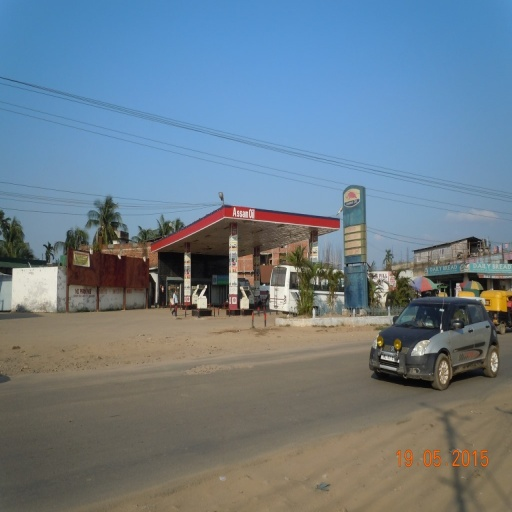roof: (148, 205, 342, 258)
